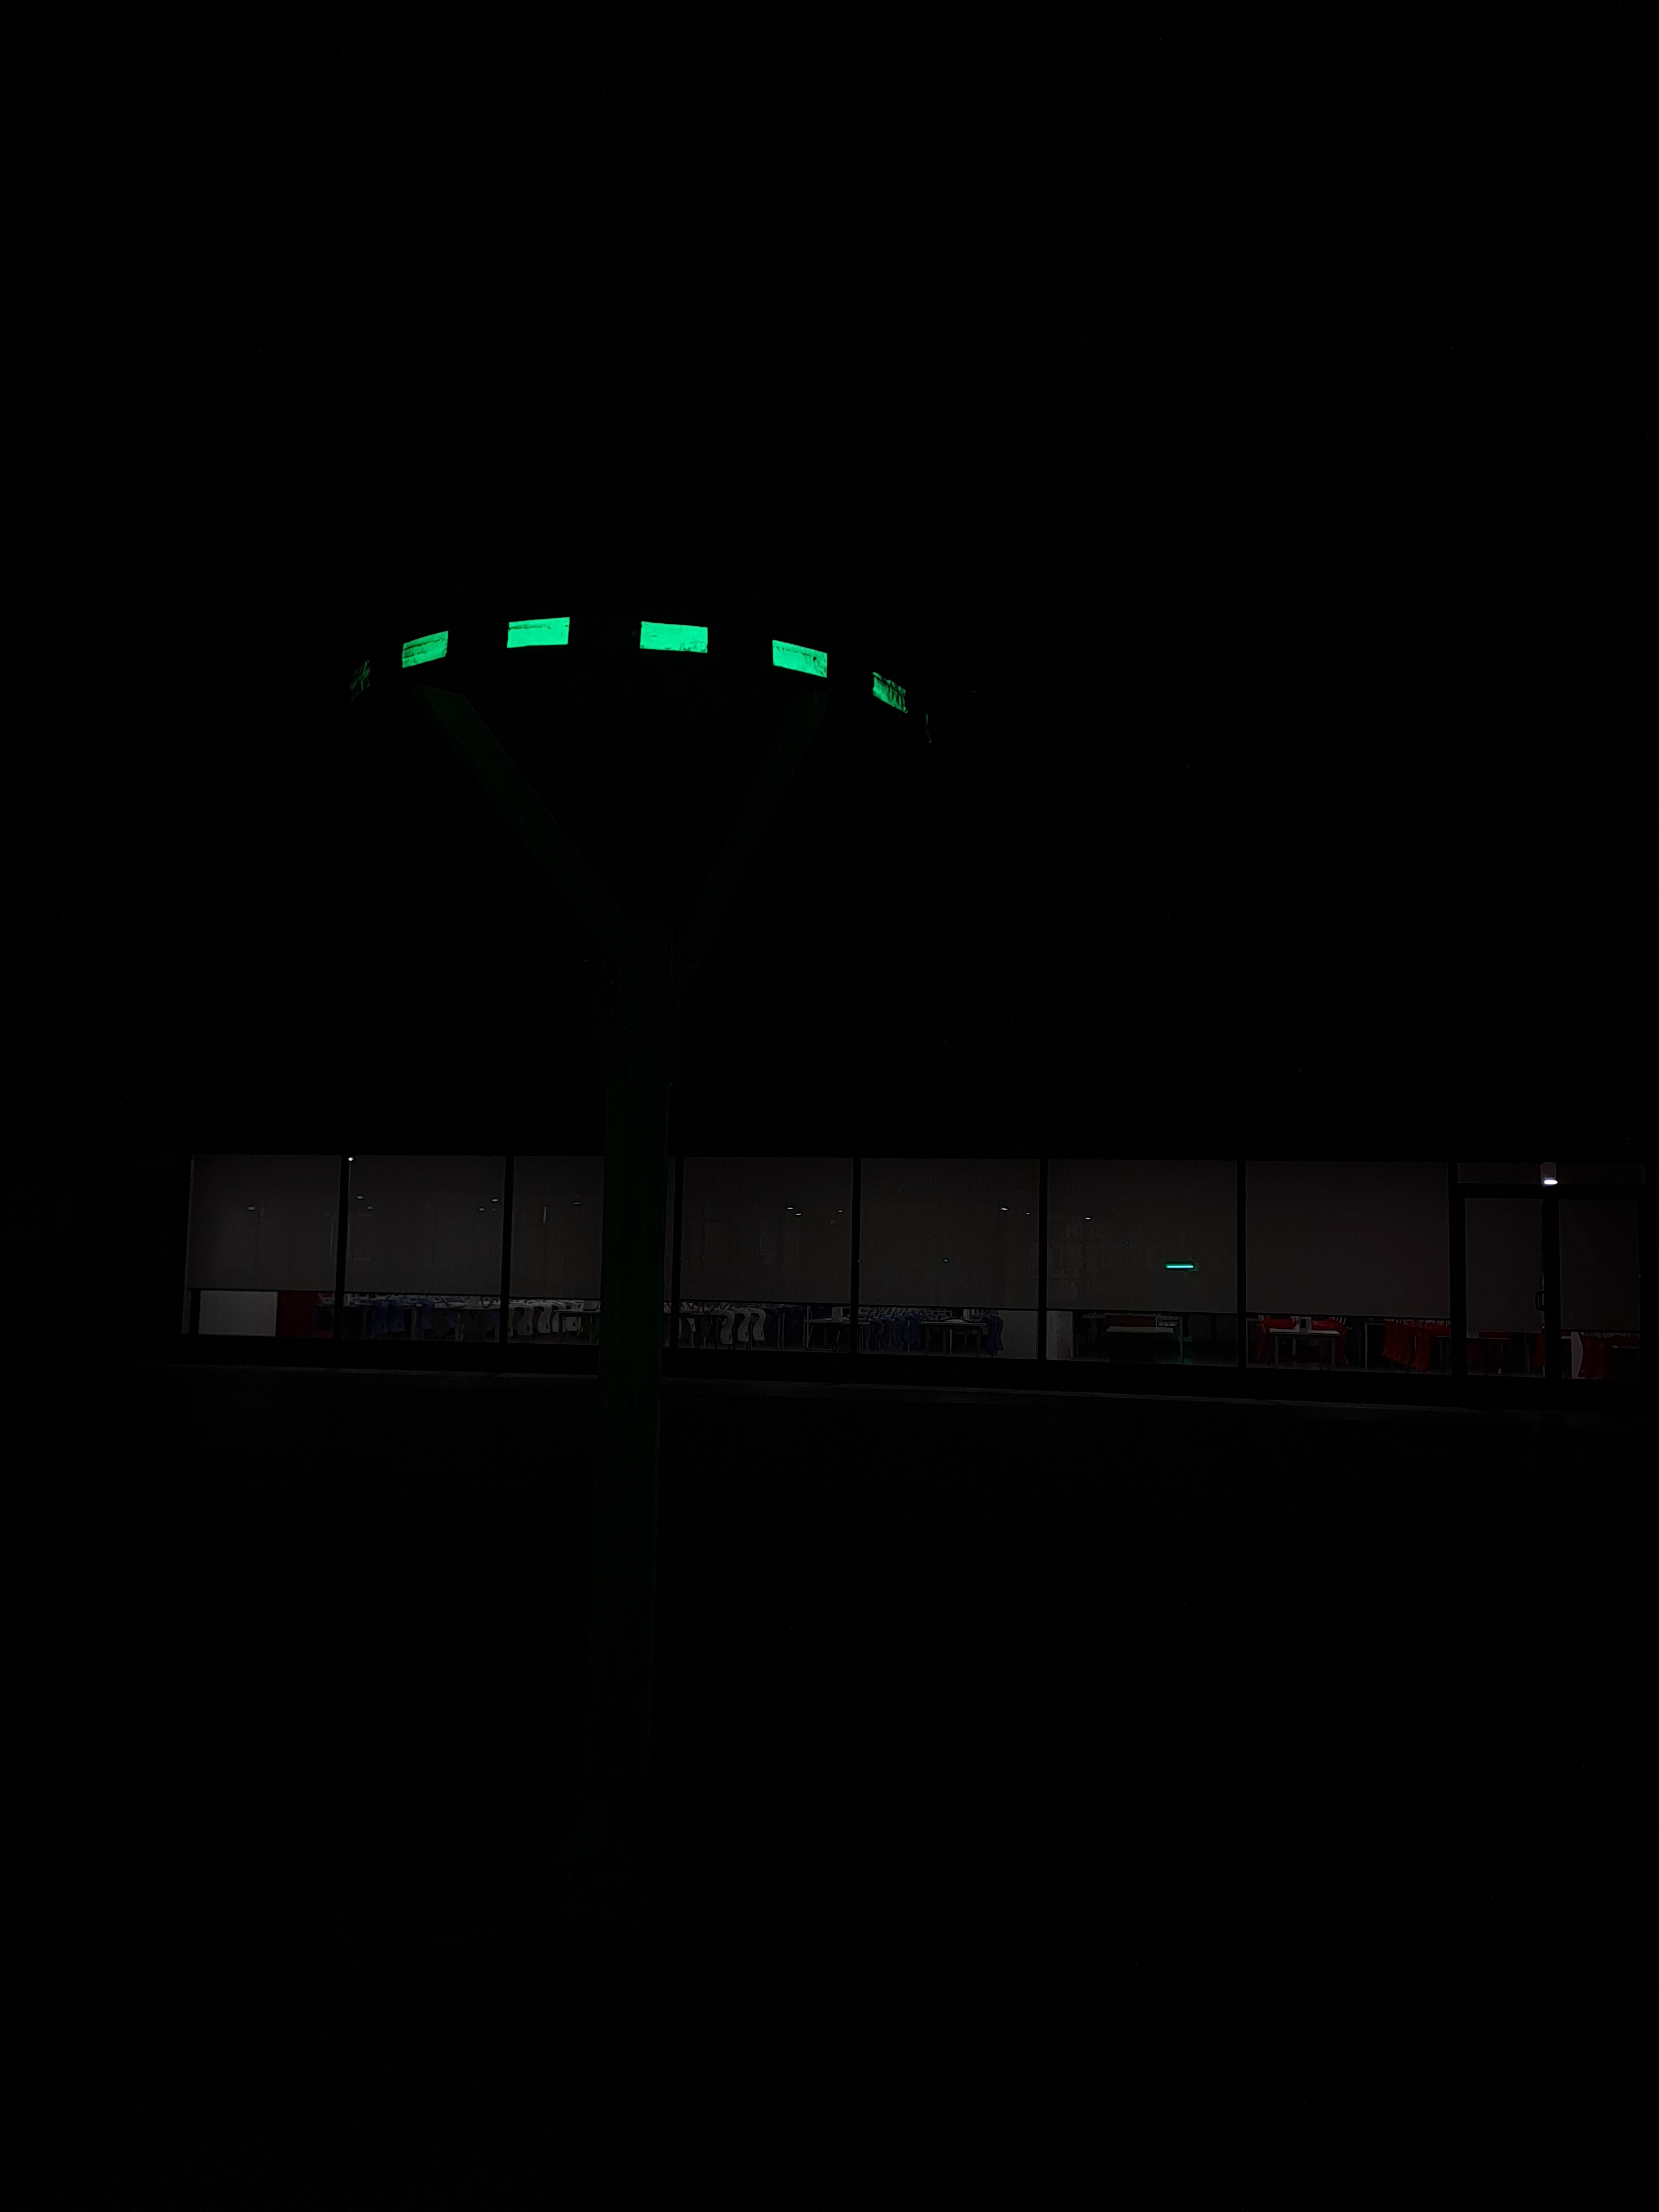hoop: (390, 611, 915, 723)
